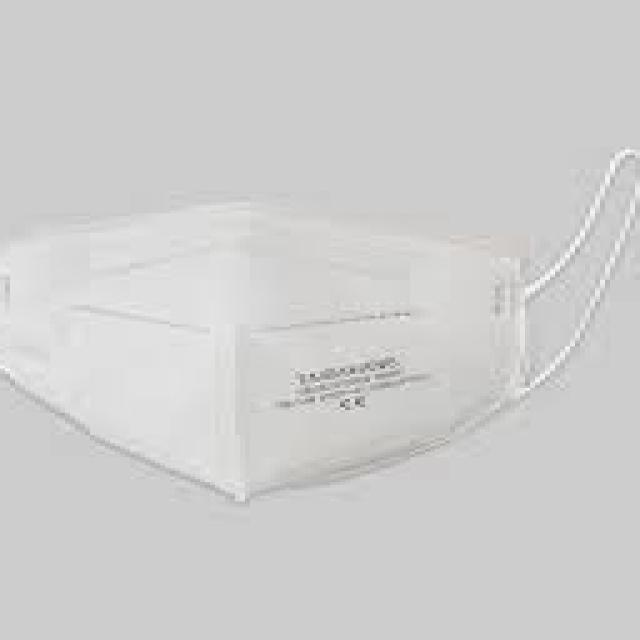organic: (1, 139, 619, 484)
